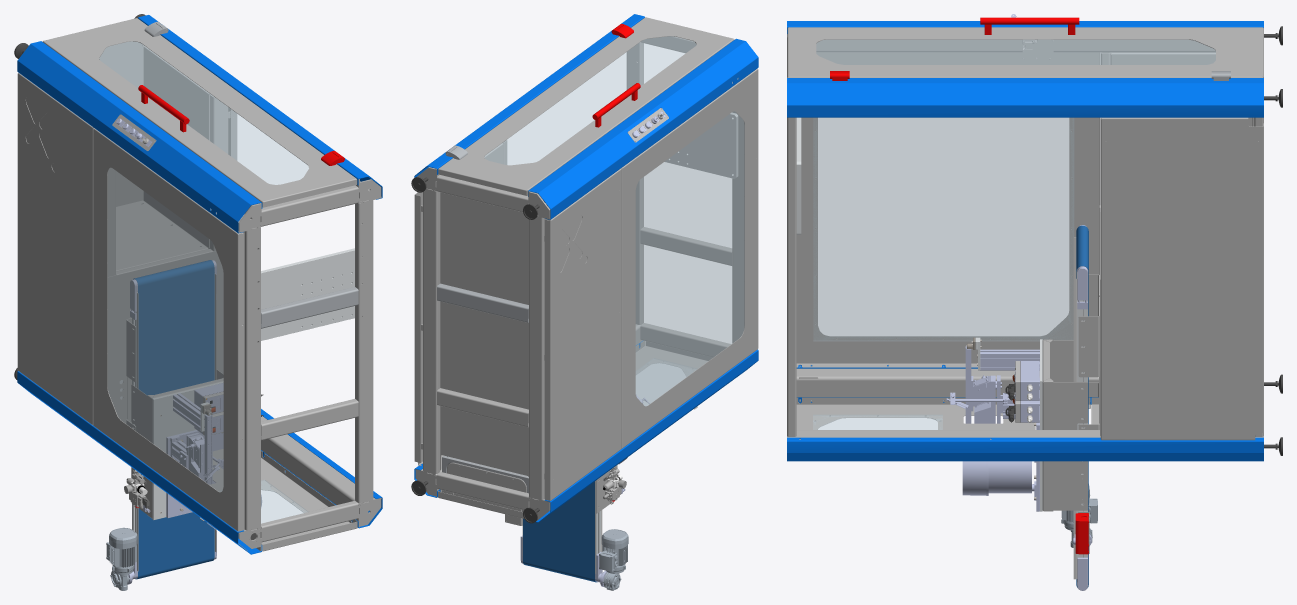
File: imm-cell-conveyor.glb
The picture shows the model from 3 angles, left to right: view 1: azimuth 30°, elevation 25°; view 2: azimuth 150°, elevation 25°; view 3: azimuth 270°, elevation 25°; orthographic projection. The views are drawn at different scales.
Visible parts, largest first — view 1: 0123_10_Flex7IMM_ogrodje_plocevina_sestav_mesh, z-590223-000_132023_mesh, 15-25-02-00-000_mesh, imm-mount-plate_mesh, body_mesh, AC20-A-0074OEZ_mesh; view 2: 0123_10_Flex7IMM_ogrodje_plocevina_sestav_mesh, z-590223-000_132023_mesh, imm-mount-plate_mesh, nsycrn65200_mesh, AC20-A-0074OEZ_mesh, body_mesh; view 3: 0123_10_Flex7IMM_ogrodje_plocevina_sestav_mesh, body_mesh, 15-25-02-00-000_mesh, z-590223-000_132023_mesh, imm-mount-plate_mesh.
Boxes of the visible parts, x1,y1,x2,y2 form: 0123_10_Flex7IMM_ogrodje_plocevina_sestav_mesh: [14, 14, 382, 554]; z-590223-000_132023_mesh: [106, 260, 216, 590]; 15-25-02-00-000_mesh: [152, 381, 263, 529]; imm-mount-plate_mesh: [261, 248, 354, 340]; body_mesh: [126, 318, 223, 520]; AC20-A-0074OEZ_mesh: [124, 470, 150, 512]; 0123_10_Flex7IMM_ogrodje_plocevina_sestav_mesh: [411, 14, 758, 523]; z-590223-000_132023_mesh: [520, 480, 628, 590]; imm-mount-plate_mesh: [665, 112, 738, 178]; nsycrn65200_mesh: [442, 455, 528, 493]; AC20-A-0074OEZ_mesh: [603, 467, 626, 504]; body_mesh: [505, 406, 697, 525]; 0123_10_Flex7IMM_ogrodje_plocevina_sestav_mesh: [787, 14, 1282, 461]; body_mesh: [1042, 274, 1099, 554]; 15-25-02-00-000_mesh: [946, 337, 1042, 511]; z-590223-000_132023_mesh: [1061, 225, 1097, 590]; imm-mount-plate_mesh: [796, 117, 801, 234].
Size of the model in its own units: 759 by 2493 by 2080.
